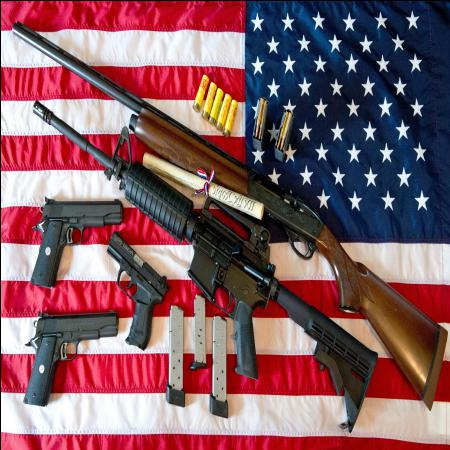Pistol: (20, 308, 120, 404), (29, 196, 123, 286), (107, 228, 170, 348)
